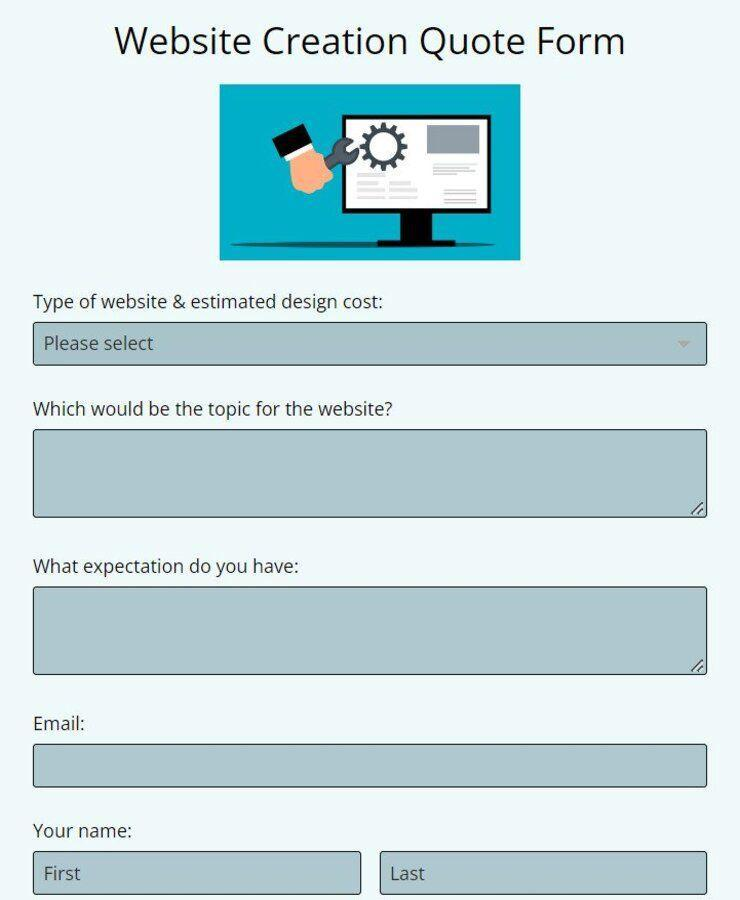dropdown: (32, 321, 710, 368)
input: (34, 744, 708, 790), (34, 851, 363, 896), (381, 851, 708, 896)
label: (30, 394, 401, 424), (28, 290, 385, 314), (25, 551, 309, 580), (31, 819, 138, 843), (31, 711, 93, 730)
